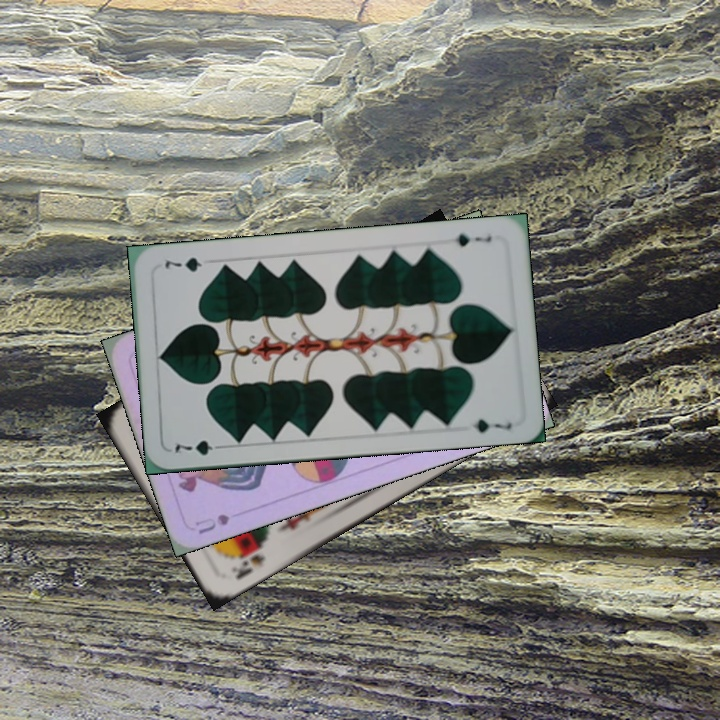G7: (171, 436, 228, 458), (443, 230, 494, 249)
SK: (232, 541, 268, 582)
SU: (191, 509, 232, 537)
